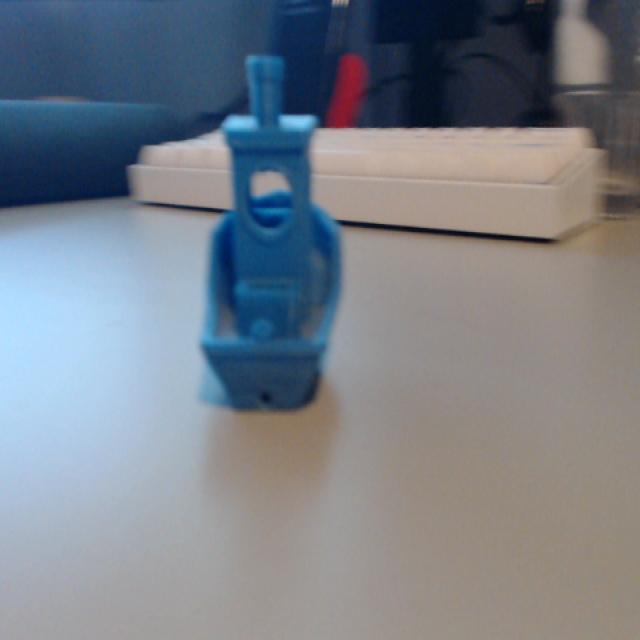benchy: (196, 51, 345, 413)
